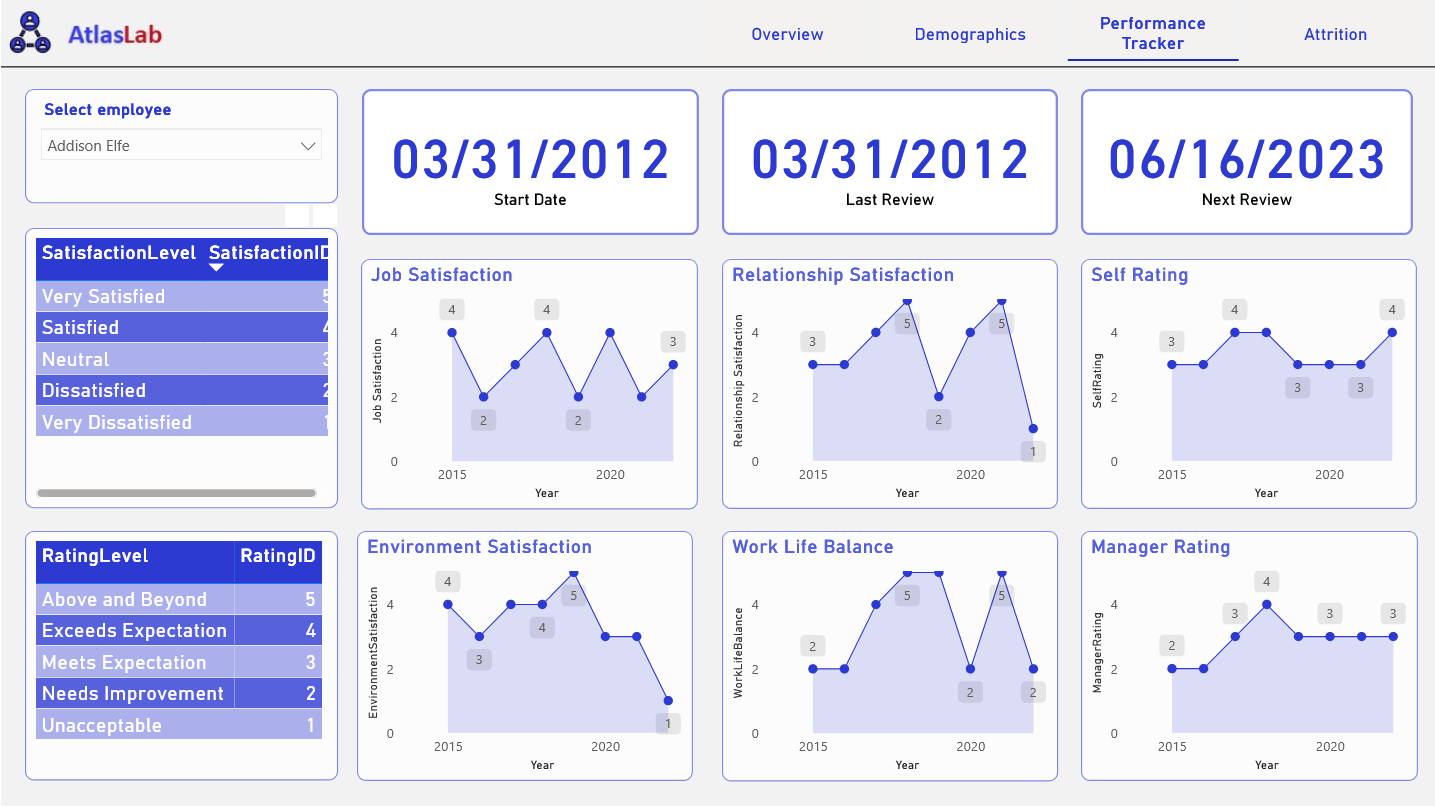

The page's visual inventory and layout, read from the dashboard file:
{"tool":"powerbi","page":{"name":"Performance Tracker","canvas":[1280,720],"ordinal":2},"visuals":[{"type":"slicer","fields":{"Values":["DimEmployee.FullName"]},"box":[22.2,79.8,279.3,102],"z":0},{"type":"card","fields":{"Values":["Min(DimEmployee.HireDate)"]},"box":[643.7,79.8,299.7,130.3],"z":1000},{"type":"card","fields":{"Values":["_Measures.NextReviewDate"]},"box":[964.7,79.8,296.2,130.3],"z":2000},{"type":"lineChart","title":"Job Satisfaction ","fields":{"Category":["DimDate.Year"],"Y":["_Measures.JobSatisfaction"]},"box":[322.5,230.7,300.6,223.4],"z":3000},{"type":"lineChart","title":"Relationship Satisfaction ","fields":{"Category":["DimDate.Year"],"Y":["_Measures.RelationshipSatisfaction"]},"box":[644,230.8,299.7,223],"z":4000},{"type":"lineChart","title":"Self Rating","fields":{"Category":["DimDate.Year"],"Y":["_Measures.SelfRating"]},"box":[964.7,230.7,299.7,223],"z":5000},{"type":"lineChart","title":"Environment Satisfaction","fields":{"Category":["DimDate.Year"],"Y":["_Measures.EnvironmentSatisfaction"]},"box":[318.2,473.6,299.7,223],"z":6000},{"type":"lineChart","title":"Work Life Balance","fields":{"Category":["DimDate.Year"],"Y":["_Measures.WorkLifeBalance"]},"box":[643.6,479.7,299.7,223],"z":7000},{"type":"lineChart","title":"Manager Rating","fields":{"Category":["DimDate.Year"],"Y":["_Measures.ManagerRating"]},"box":[964.6,473.6,300.6,223],"z":8000},{"type":"card","title":"Start Date","fields":{"Values":["Min(DimEmployee.HireDate)"]},"box":[322.8,79.8,300.6,130.3],"z":9000},{"type":"tableEx","fields":{"Values":["DimSatisfiedLevel.SatisfactionLevel","DimSatisfiedLevel.SatisfactionID"]},"box":[22.2,203.1,279.3,250],"z":10000},{"type":"tableEx","fields":{"Values":["DimRatingLevel.RatingLevel","DimRatingLevel.RatingID"]},"box":[22.2,473.5,279.3,222.6],"z":11000},{"type":"pageNavigator","box":[625.9,4,643,50.3],"z":12000}]}

Visuals, with their boxes in screenshot pixels (x1, y1, x2, y2), scaled from the page's 1280x720 canvas onto the 1435x807 screenshot:
slicer - DimEmployee.FullName: detection(25, 89, 338, 204)
card - Min(DimEmployee.HireDate): detection(722, 89, 1058, 235)
card - _Measures.NextReviewDate: detection(1082, 89, 1414, 235)
"Job Satisfaction " lineChart: detection(362, 259, 699, 509)
"Relationship Satisfaction " lineChart: detection(722, 259, 1058, 509)
"Self Rating" lineChart: detection(1082, 259, 1418, 509)
"Environment Satisfaction" lineChart: detection(357, 531, 693, 781)
"Work Life Balance" lineChart: detection(722, 538, 1058, 788)
"Manager Rating" lineChart: detection(1081, 531, 1418, 781)
"Start Date" card: detection(362, 89, 699, 235)
tableEx - DimSatisfiedLevel.SatisfactionLevel x DimSatisfiedLevel.SatisfactionID: detection(25, 228, 338, 508)
tableEx - DimRatingLevel.RatingLevel x DimRatingLevel.RatingID: detection(25, 531, 338, 780)
pageNavigator: detection(702, 4, 1423, 61)
